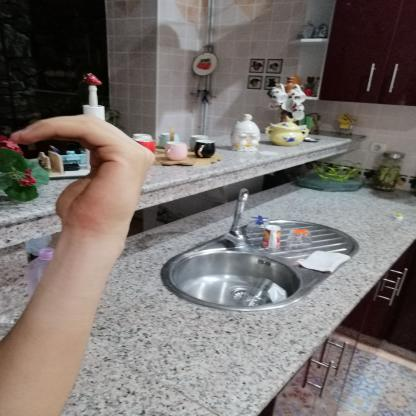HAA: (1, 99, 178, 249)
